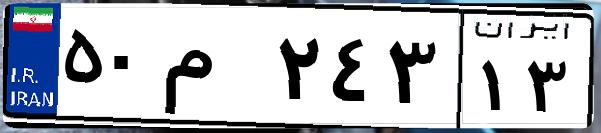0: (110, 28, 158, 98)
1: (475, 38, 525, 113)
2: (270, 28, 330, 110)
3: (385, 28, 445, 110), (525, 38, 570, 115)
4: (330, 28, 385, 110)
5: (57, 26, 110, 100)
م: (158, 20, 270, 120)
